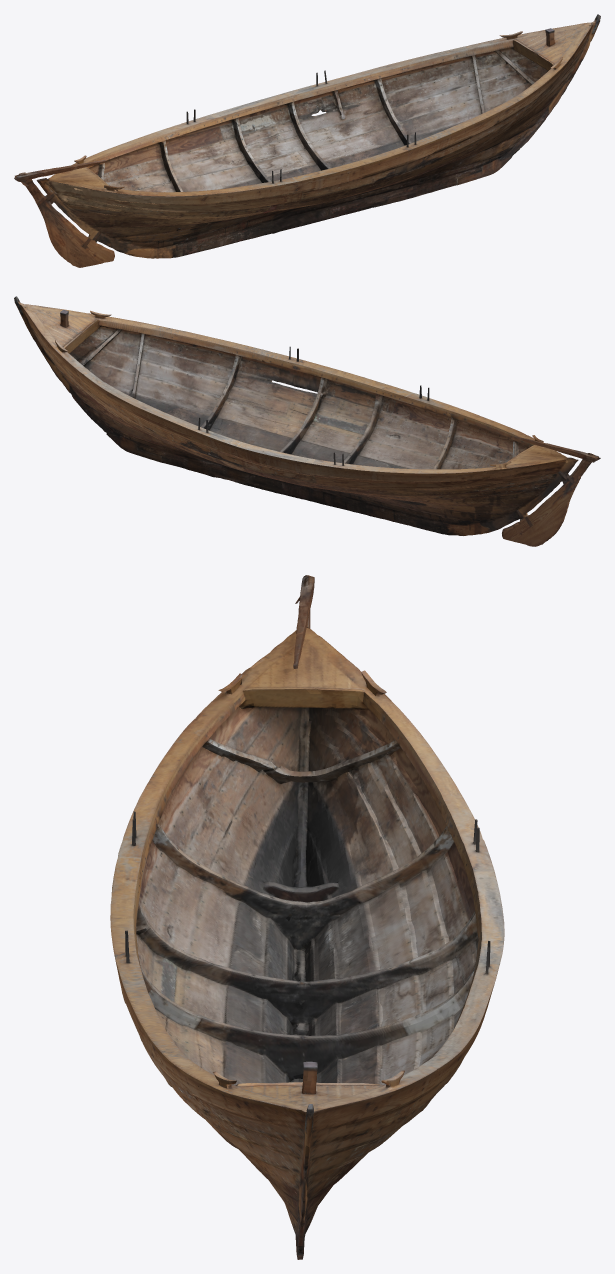
File: boat.obj
3 views of the same model, one above another, from view 1: azimuth 30°, elevation 25°; view 2: azimuth 150°, elevation 25°; view 3: azimuth 270°, elevation 25° (orthographic). The views are drawn at different scales.
Parts seen in each view (by area): view 1: Venus50K_8KTx_Mesh; view 2: Venus50K_8KTx_Mesh; view 3: Venus50K_8KTx_Mesh.
Part boxes in pixels (x1,y1,x2,y2): Venus50K_8KTx_Mesh: (14,14,600,267); Venus50K_8KTx_Mesh: (14,296,600,546); Venus50K_8KTx_Mesh: (110,575,504,1259).
Size of the model in its own units: 3.26 by 0.7262 by 0.9512.
1 material, 1 textured.
